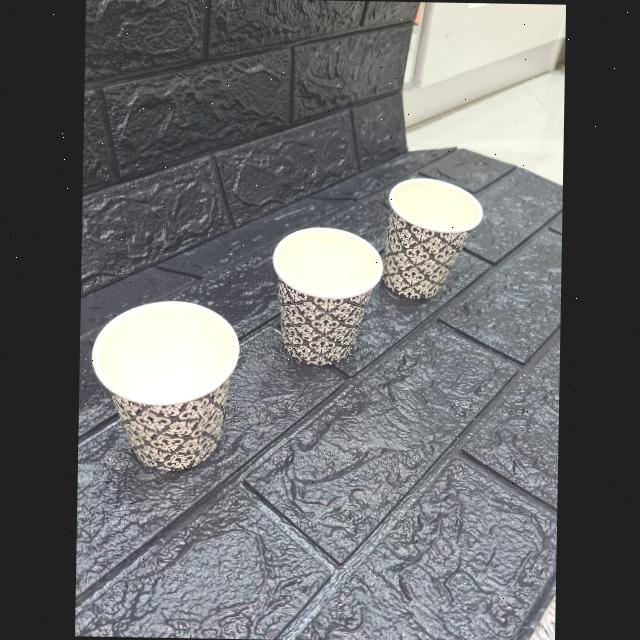trash: (91, 293, 242, 478), (269, 222, 384, 374), (387, 170, 498, 316)
